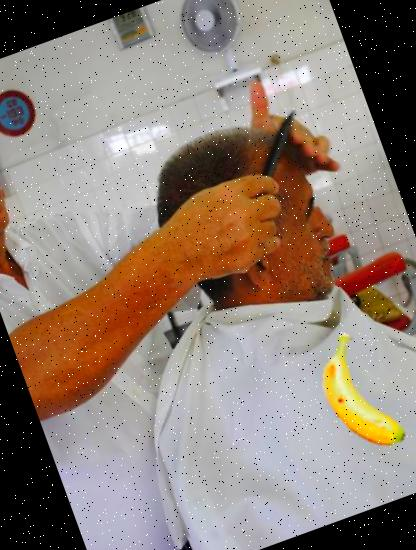Banana: (282, 315, 416, 475)
